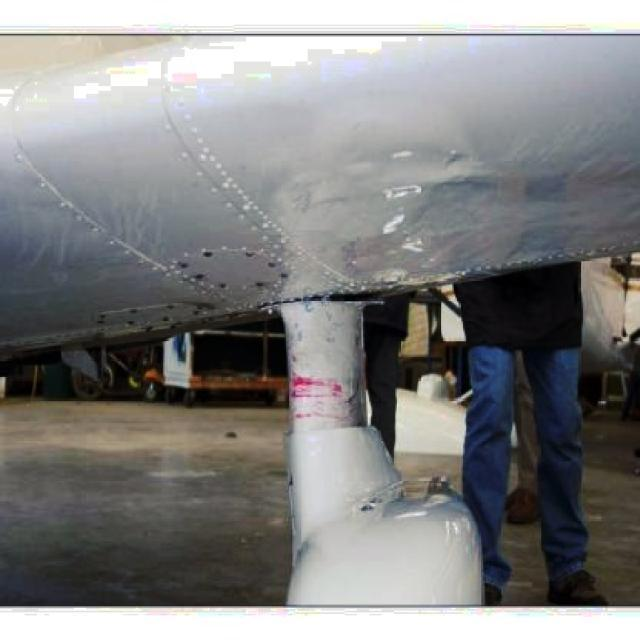dent: (391, 174, 433, 211)
